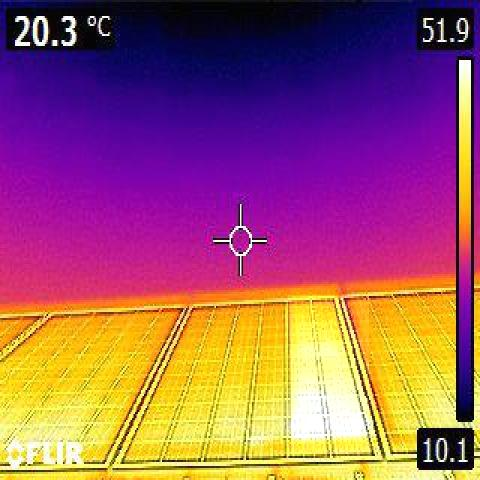fault: (288, 295, 369, 458)
